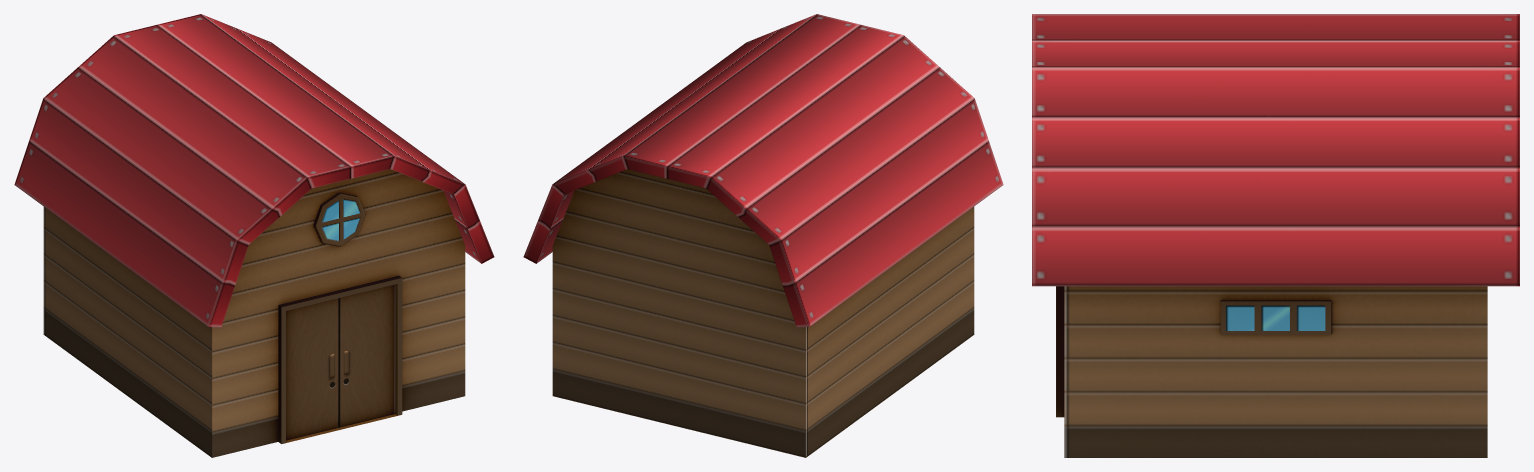
The model's file is barn.fbx.
3 views of the same model, side by side, from view 1: azimuth 30°, elevation 25°; view 2: azimuth 150°, elevation 25°; view 3: azimuth 270°, elevation 25° (orthographic). The views are drawn at different scales.
Visible parts, largest first — view 1: barn_geo, door_R_geo, door_L_geo; view 2: barn_geo; view 3: barn_geo.
Boxes of the visible parts, bbox=[...] form: barn_geo: bbox=[14, 14, 494, 457]; door_R_geo: bbox=[339, 284, 395, 427]; door_L_geo: bbox=[286, 298, 339, 440]; barn_geo: bbox=[523, 14, 1003, 457]; barn_geo: bbox=[1032, 14, 1519, 457].
Size of the model in its own units: 0.1127 by 0.1016 by 0.1323.
